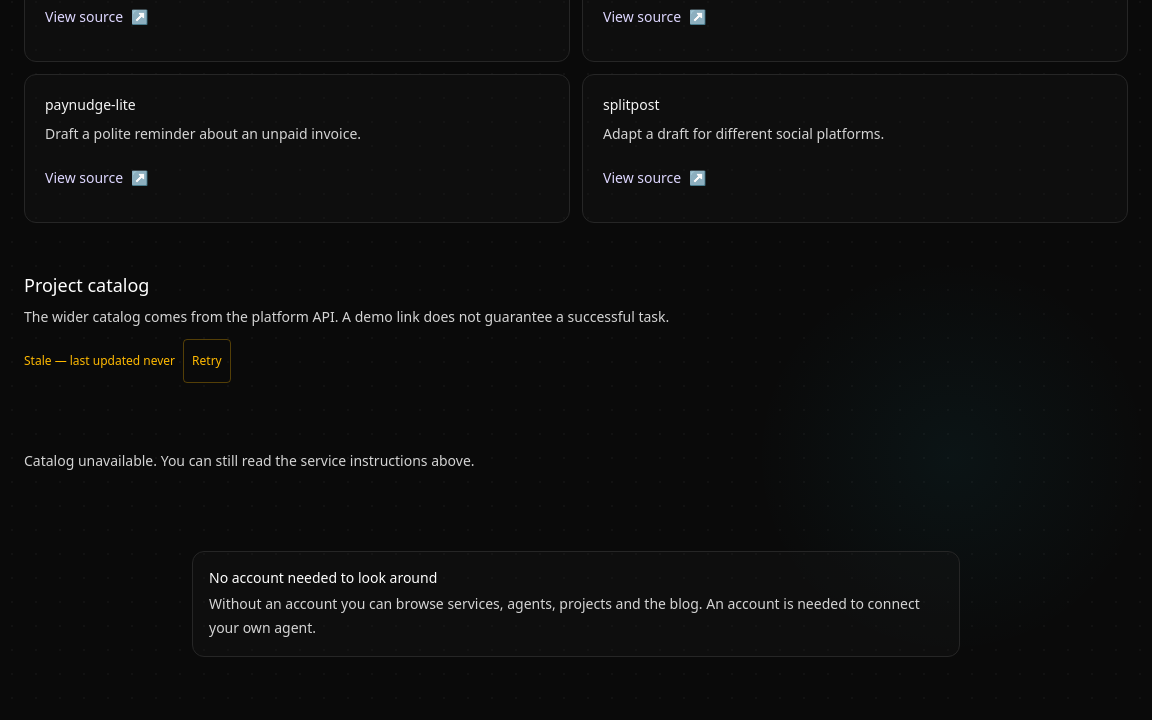
Test: SC.HTTP first http error in en stays unavailable with unknown count and one working Retry
The image size is (1152, 720).
(page scrolled)
Expected: the text "Catalog unavailable. You can still read the service instructions above." is shown, x1=24 y1=450 x2=475 y2=470
Click the button "Retry" at (207, 360), box x1=183 y1=338 x2=231 y2=382
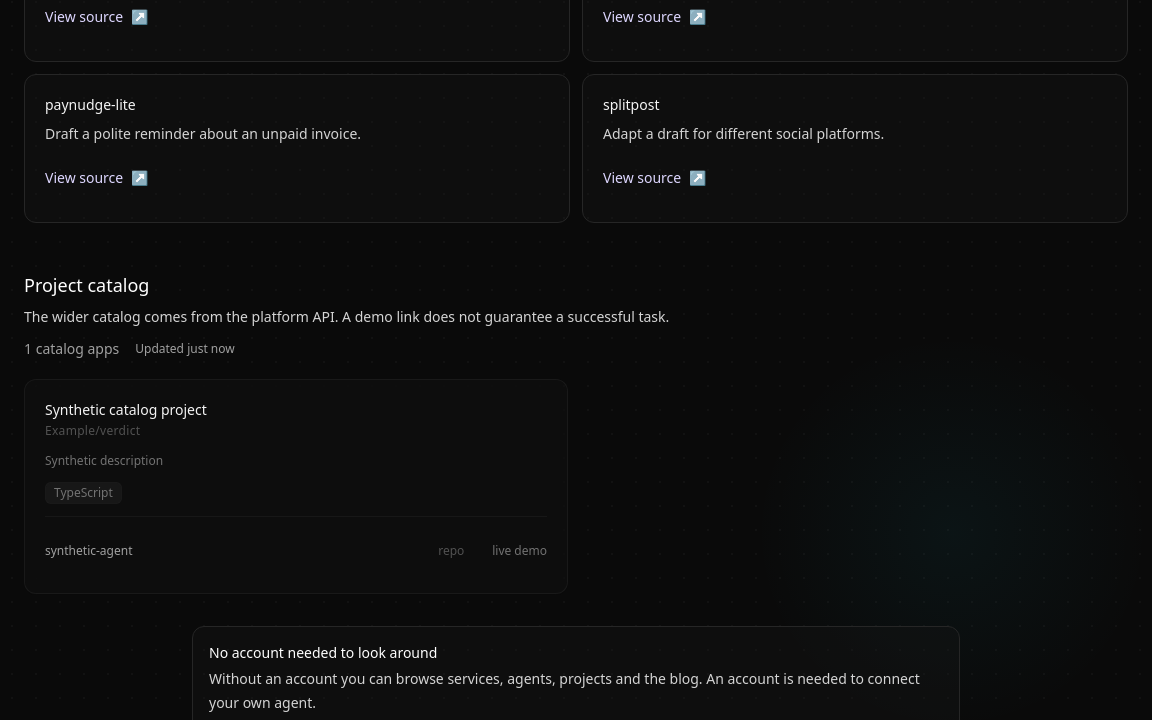
Expected: the heading "Synthetic catalog project" is shown, x1=45 y1=400 x2=207 y2=418
Expected: the text "Catalog unavailable. You can still read the service instructions above." is gone
